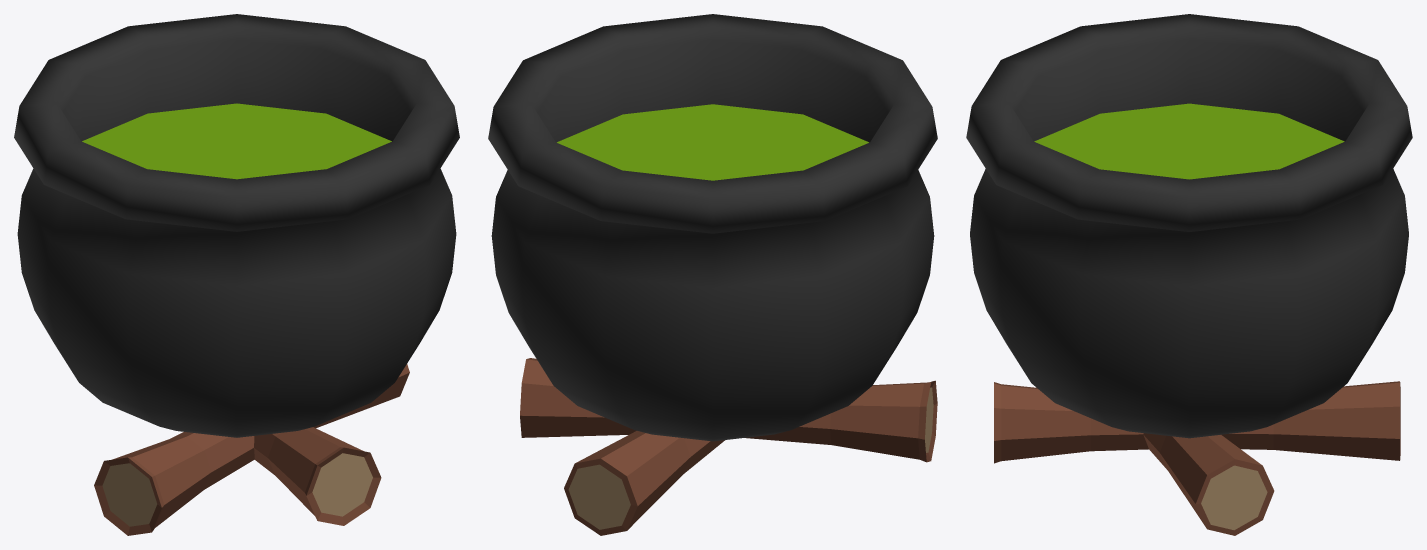
The model's file is Pot.fbx.
3 views of the same model, side by side, from view 1: azimuth 30°, elevation 25°; view 2: azimuth 150°, elevation 25°; view 3: azimuth 270°, elevation 25° (orthographic).
Visible parts, largest first — view 1: Pot; view 2: Pot; view 3: Pot.
Boxes of the visible parts, x1,y1,x2,y2 form: Pot: [14, 14, 459, 535]; Pot: [488, 14, 937, 535]; Pot: [966, 14, 1412, 535].
Size of the model in its own units: 203 by 178 by 203.
